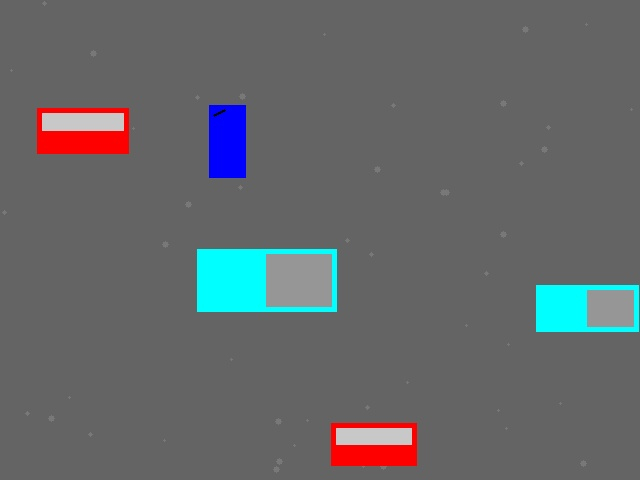car: (37, 108, 128, 153), (331, 423, 416, 465)
motorcycle: (209, 105, 245, 177)
truck: (197, 249, 336, 311), (536, 285, 638, 331)
